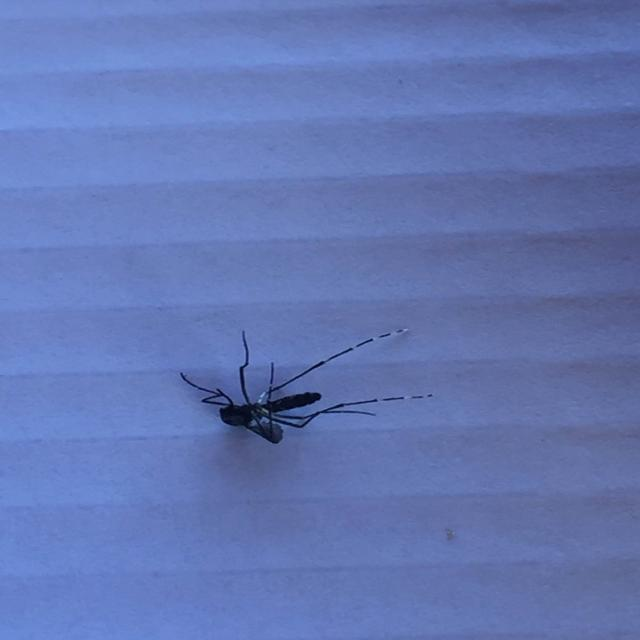albopictus: (166, 314, 430, 454)
